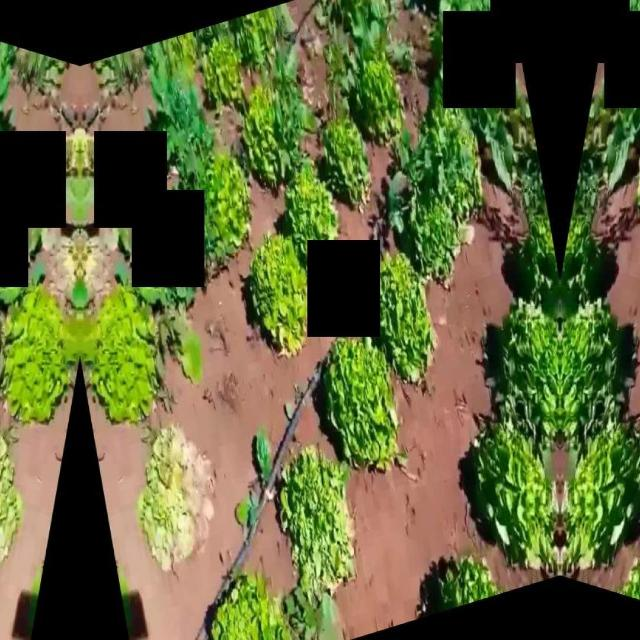healthy: (468, 423, 560, 572), (138, 422, 220, 574), (560, 423, 640, 572), (276, 445, 354, 593), (80, 284, 160, 424), (0, 284, 80, 424), (320, 336, 398, 470), (496, 294, 560, 440), (560, 294, 624, 440), (248, 232, 308, 356), (378, 252, 434, 382), (204, 570, 300, 640), (282, 160, 338, 258), (428, 105, 484, 203), (201, 154, 251, 258), (241, 85, 289, 188), (352, 51, 402, 142), (321, 113, 369, 205), (412, 198, 461, 280), (193, 37, 247, 109), (434, 554, 498, 610), (0, 422, 22, 573), (622, 554, 640, 609), (635, 105, 640, 203)
